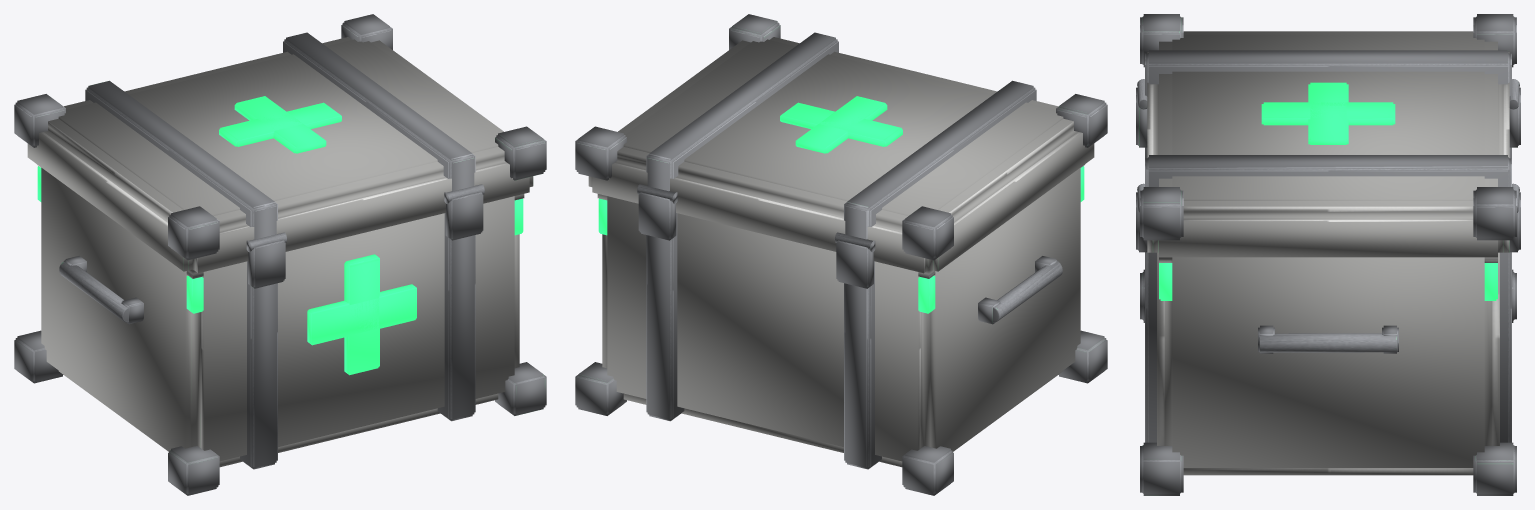
Rendered from SM_Crate_Health.glb.
3 renders of one model, left to right at view 1: azimuth 30°, elevation 25°; view 2: azimuth 150°, elevation 25°; view 3: azimuth 270°, elevation 25°, orthographic. The views are drawn at different scales.
Visible parts, largest first — view 1: SM_Crate_Health; view 2: SM_Crate_Health; view 3: SM_Crate_Health.
Boxes of the visible parts, bbox=[...] form: SM_Crate_Health: bbox=[14, 14, 546, 495]; SM_Crate_Health: bbox=[575, 14, 1107, 495]; SM_Crate_Health: bbox=[1136, 14, 1520, 495].
Bounding box in the file's own units: 0.4996 × 0.34 × 0.404.
1 material, 1 textured.
